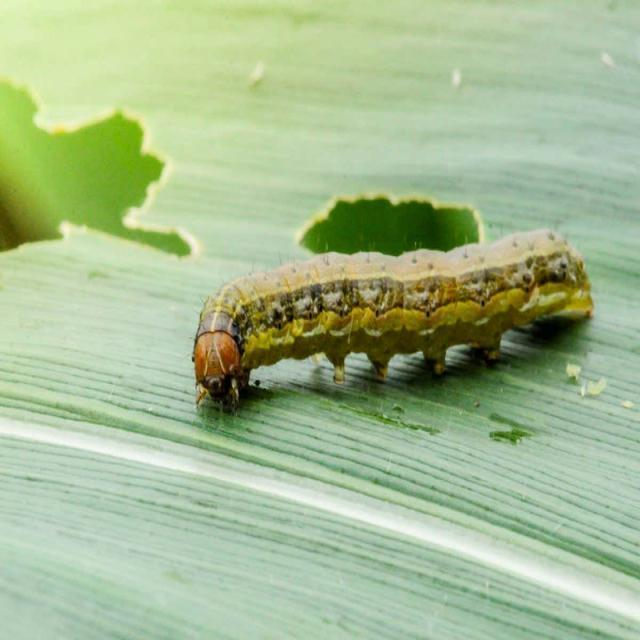army worm: (135, 193, 628, 415)
